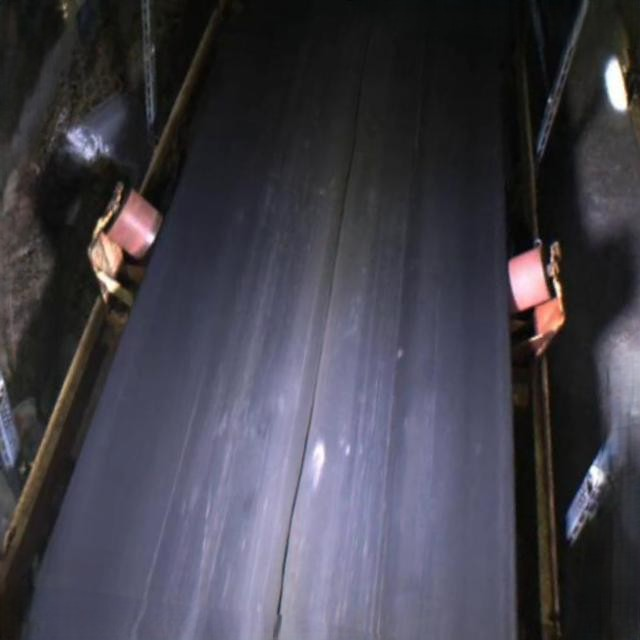Tear: (269, 64, 371, 640)
